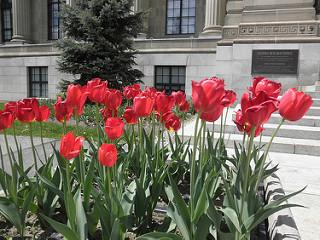tulip: (188, 75, 227, 117), (240, 92, 276, 129), (278, 85, 312, 123), (58, 132, 86, 160), (16, 96, 41, 124), (64, 83, 90, 108), (97, 143, 120, 168), (152, 89, 174, 114), (133, 92, 154, 118), (87, 76, 107, 103), (103, 116, 124, 139), (103, 86, 121, 109), (0, 109, 16, 133)
